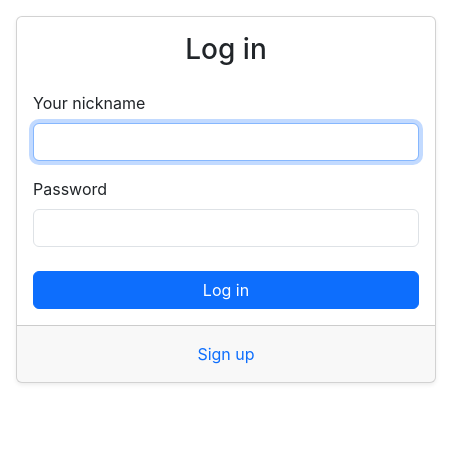
Test: LoginPage › shows validation errors when submitting empty credentials
This screenshot has width=453, height=452.
Click the button "Log in": click(226, 290) x1=33 y1=271 x2=419 y2=309
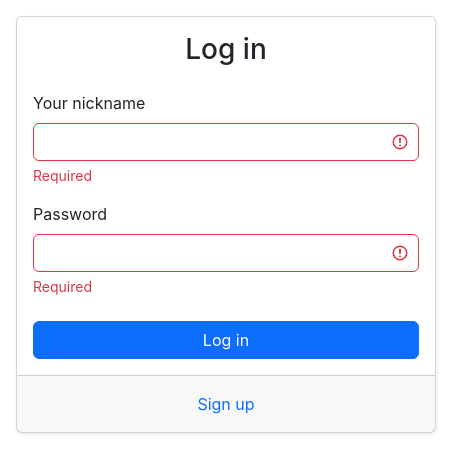
Result: the text "Required" is shown 2 times at x1=33 y1=167 x2=92 y2=184; x1=33 y1=278 x2=92 y2=295
